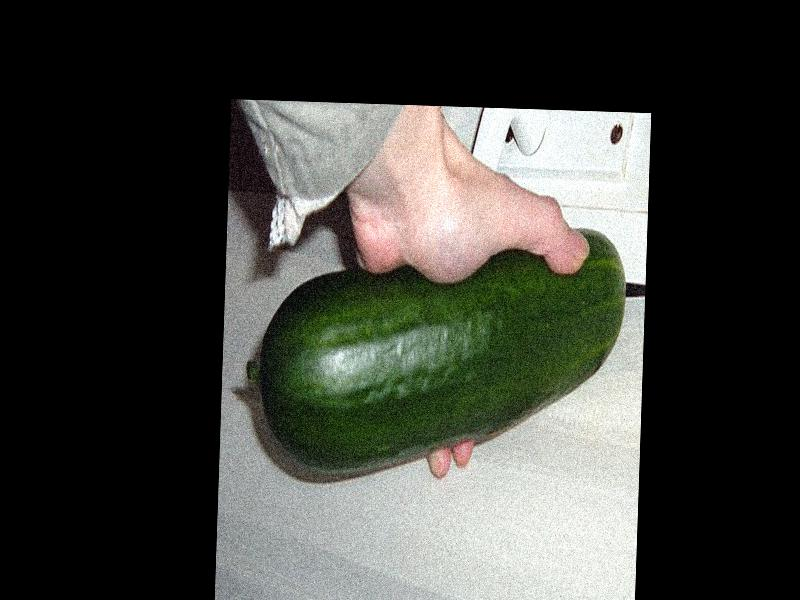Cucumber: (241, 219, 627, 491)
